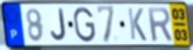7: (95, 4, 116, 45)
8: (25, 8, 44, 44)
G: (72, 6, 97, 44)
J: (50, 8, 68, 42)
K: (126, 6, 148, 42)
R: (146, 6, 174, 43)
